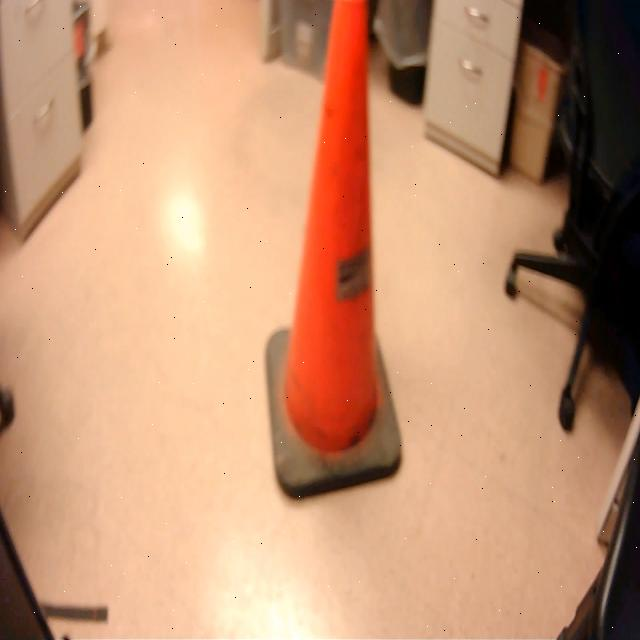traffic cone: (260, 1, 408, 506)
